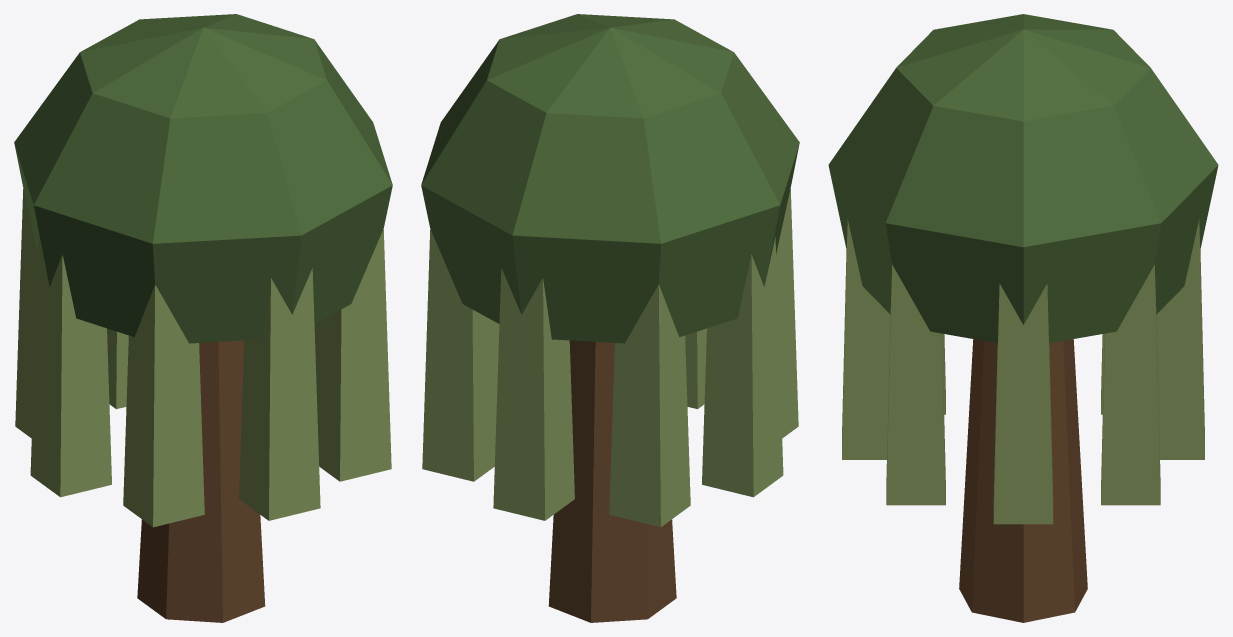
File: env_r6_swamp_willow.glb
The picture shows the model from 3 angles, left to right: view 1: azimuth 30°, elevation 25°; view 2: azimuth 150°, elevation 25°; view 3: azimuth 270°, elevation 25°; orthographic projection.
Parts seen in each view (by area): view 1: env_r6_swamp_willow; view 2: env_r6_swamp_willow; view 3: env_r6_swamp_willow.
Boxes of the visible parts, x1,y1,x2,y2 form: env_r6_swamp_willow: (14,14,392,622); env_r6_swamp_willow: (421,14,799,622); env_r6_swamp_willow: (828,14,1218,622).
Size of the model in its own units: 3 by 4.8 by 3.
Materials: 1 (1 with a texture image).
